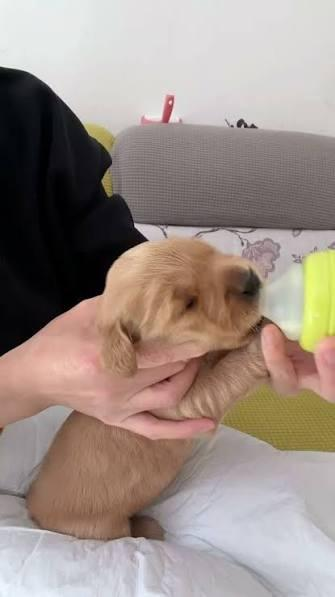puppy-dog: (28, 240, 270, 541)
